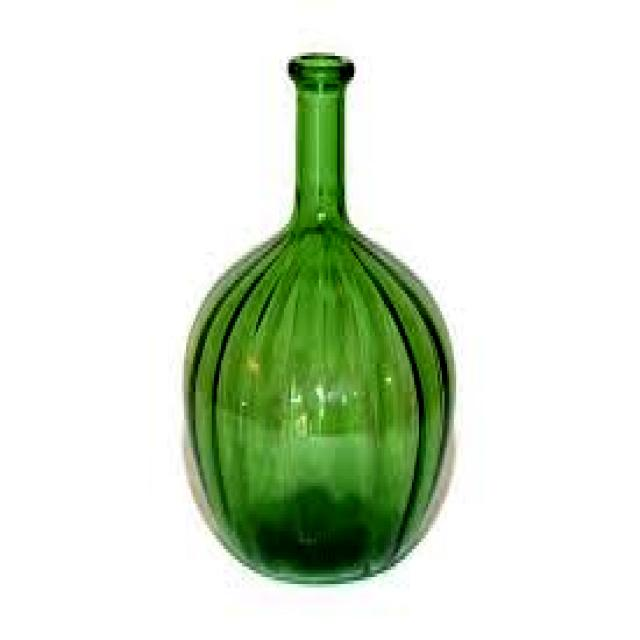Glass: (174, 45, 459, 593)
